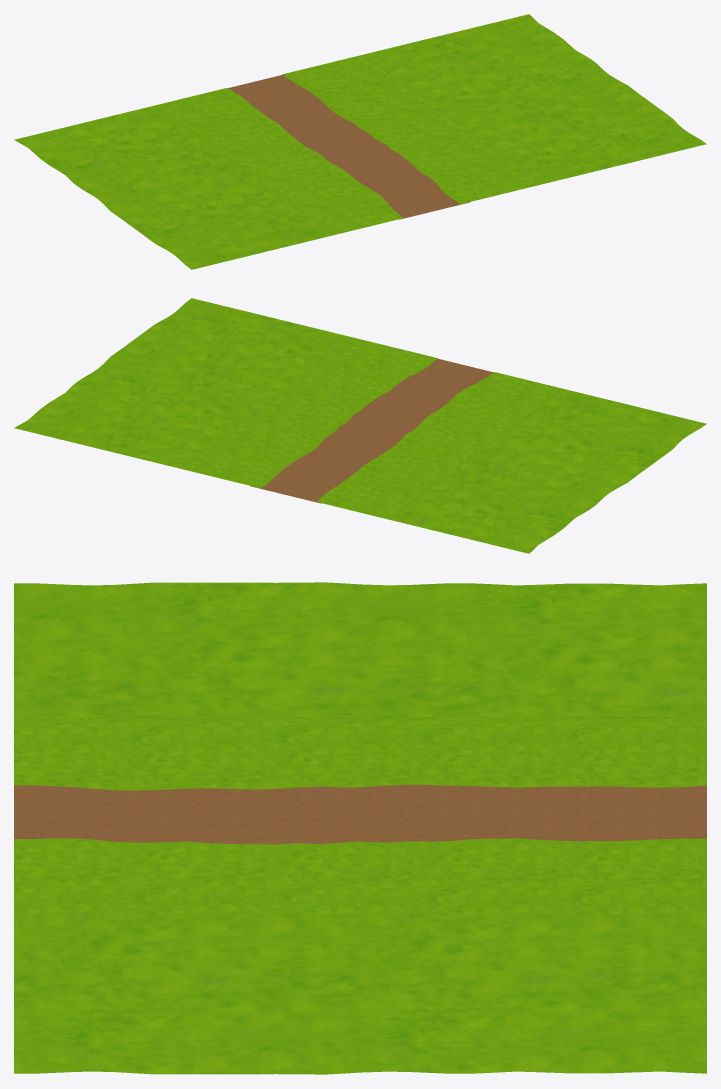
Rendered from Ground.fbx.
3 views of the same model, one above another, from view 1: azimuth 30°, elevation 25°; view 2: azimuth 150°, elevation 25°; view 3: azimuth 270°, elevation 25° (orthographic). The views are drawn at different scales.
Visible parts, largest first — view 1: polySurface19; view 2: polySurface19; view 3: polySurface19.
Boxes of the visible parts, x1,y1,x2,y2 form: polySurface19: (14, 14, 706, 269); polySurface19: (14, 298, 706, 553); polySurface19: (14, 582, 706, 1074).
Size of the model in its own units: 107 by 0.0991 by 63.84.
